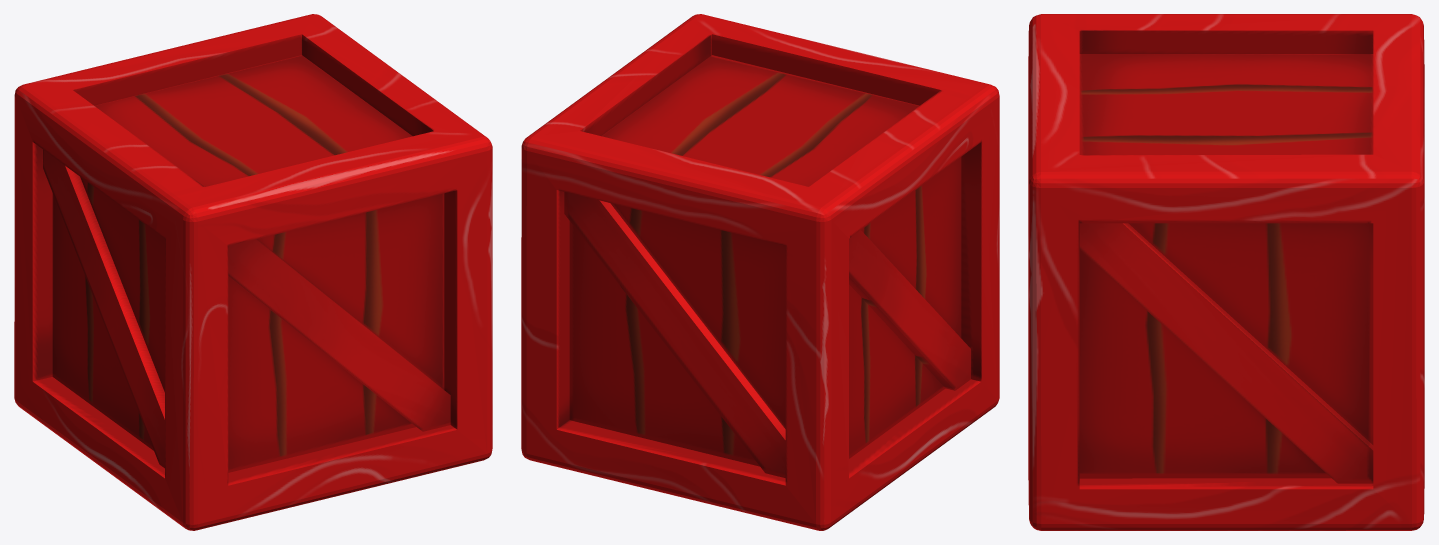
File: Wood_Red_New.fbx
The picture shows the model from 3 angles, left to right: view 1: azimuth 30°, elevation 25°; view 2: azimuth 150°, elevation 25°; view 3: azimuth 270°, elevation 25°; orthographic projection. The views are drawn at different scales.
Visible parts, largest first — view 1: OB_S_Red_67; view 2: OB_S_Red_67; view 3: OB_S_Red_67.
Part boxes in pixels (x1,y1,x2,y2): OB_S_Red_67: (14,14,492,530); OB_S_Red_67: (521,14,999,530); OB_S_Red_67: (1028,14,1424,530).
Bounding box in the file's own units: 105 × 105 × 105.
1 material, 1 textured.
